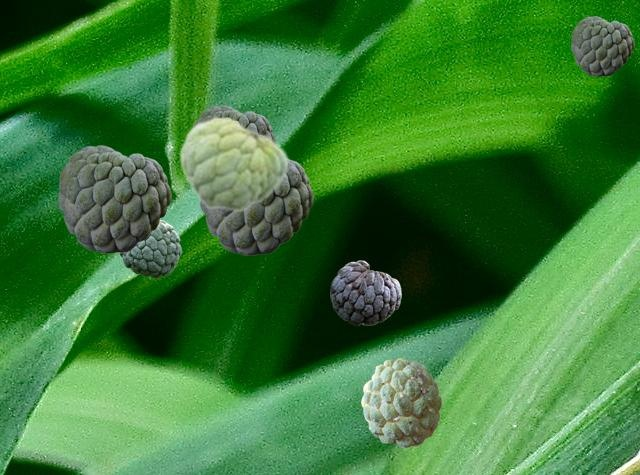atis: (58, 145, 170, 252), (178, 115, 288, 212), (200, 159, 312, 254), (361, 358, 440, 446), (330, 260, 400, 324), (571, 16, 633, 75), (119, 219, 180, 277), (195, 105, 274, 137)
